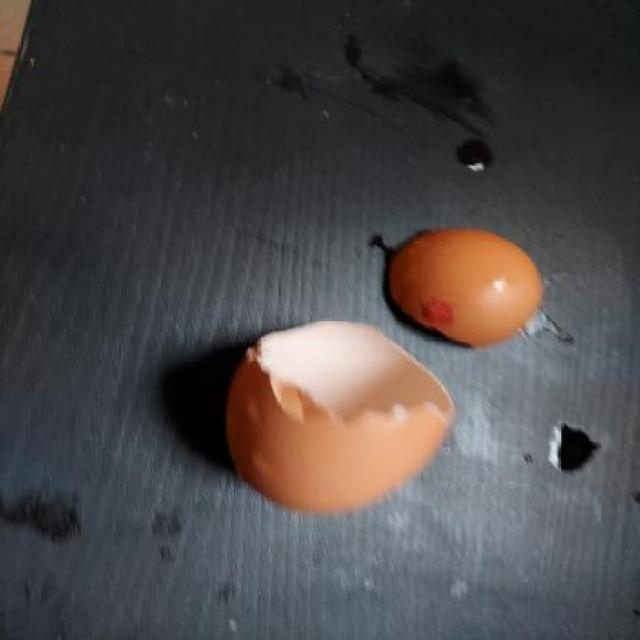biodegradable: (228, 318, 460, 517), (382, 226, 564, 352)
